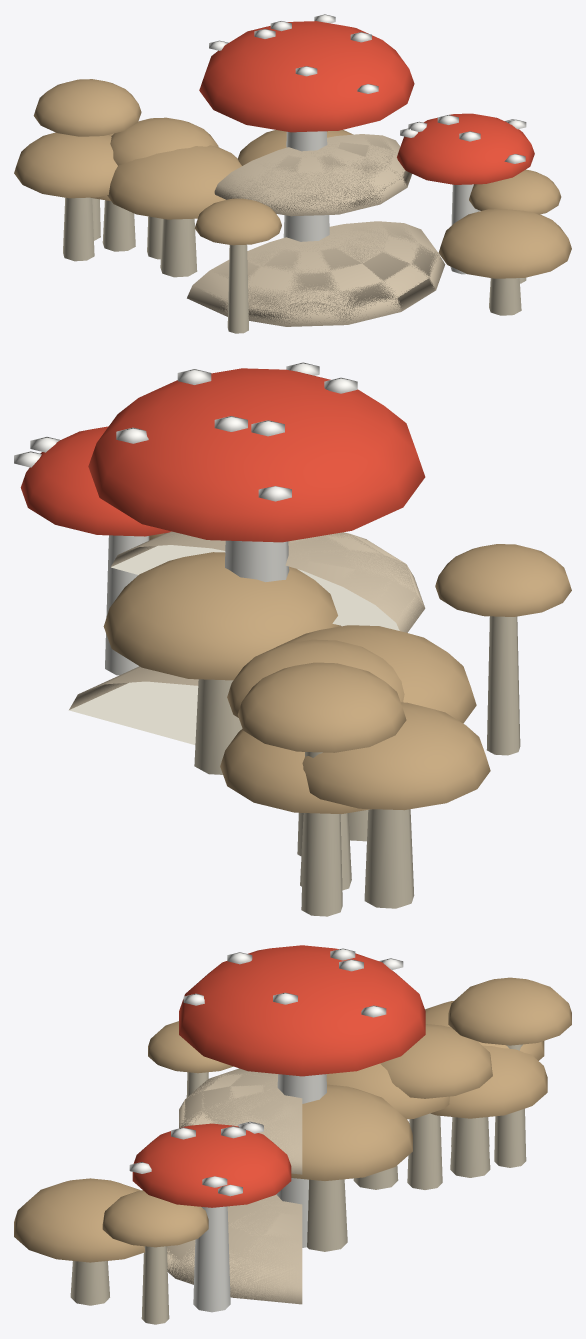
The model's file is pilze.gltf.
3 views of the same model, one above another, from view 1: azimuth 30°, elevation 25°; view 2: azimuth 150°, elevation 25°; view 3: azimuth 270°, elevation 25° (orthographic). The views are drawn at different scales.
Visible parts, largest first — view 1: hallimasch, fliegenpilz, baumschwamm; view 2: hallimasch, fliegenpilz, baumschwamm; view 3: hallimasch, fliegenpilz, baumschwamm.
Boxes of the visible parts, x1=… form: hallimasch: x1=14, y1=79, x2=571, y2=333; fliegenpilz: x1=199, y1=14, x2=534, y2=274; baumschwamm: x1=187, y1=134, x2=445, y2=326; hallimasch: x1=103, y1=533, x2=571, y2=916; fliegenpilz: x1=14, y1=362, x2=425, y2=675; baumschwamm: x1=69, y1=531, x2=425, y2=744; hallimasch: x1=14, y1=977, x2=571, y2=1324; fliegenpilz: x1=129, y1=945, x2=425, y2=1312; baumschwamm: x1=167, y1=1068, x2=302, y2=1304.
Size of the model in its own units: 0.2983 by 0.1693 by 0.3089.
